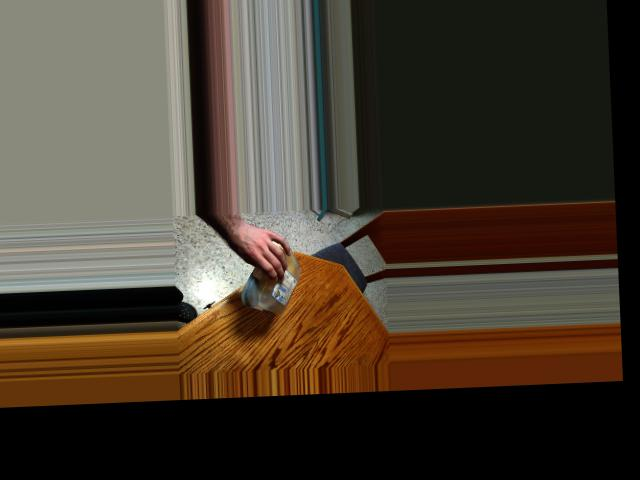cheese: (256, 250, 299, 309)
